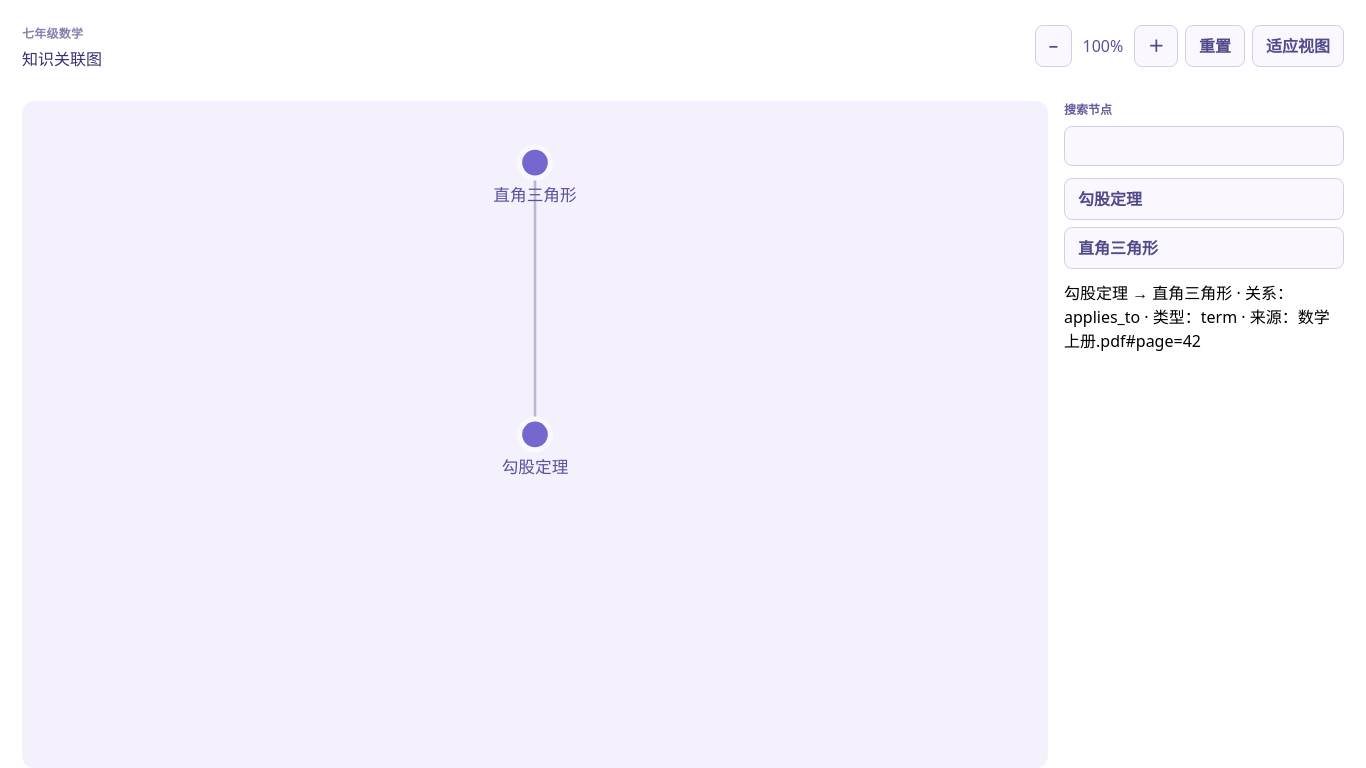
Test: KnowledgeGraphPanel › focuses a node, shows details, and fit view clears focus and resets the transform
The image size is (1366, 768).
Step 1. Click the button "直角三角形" → (1118, 248), box [1064,227,1344,269]
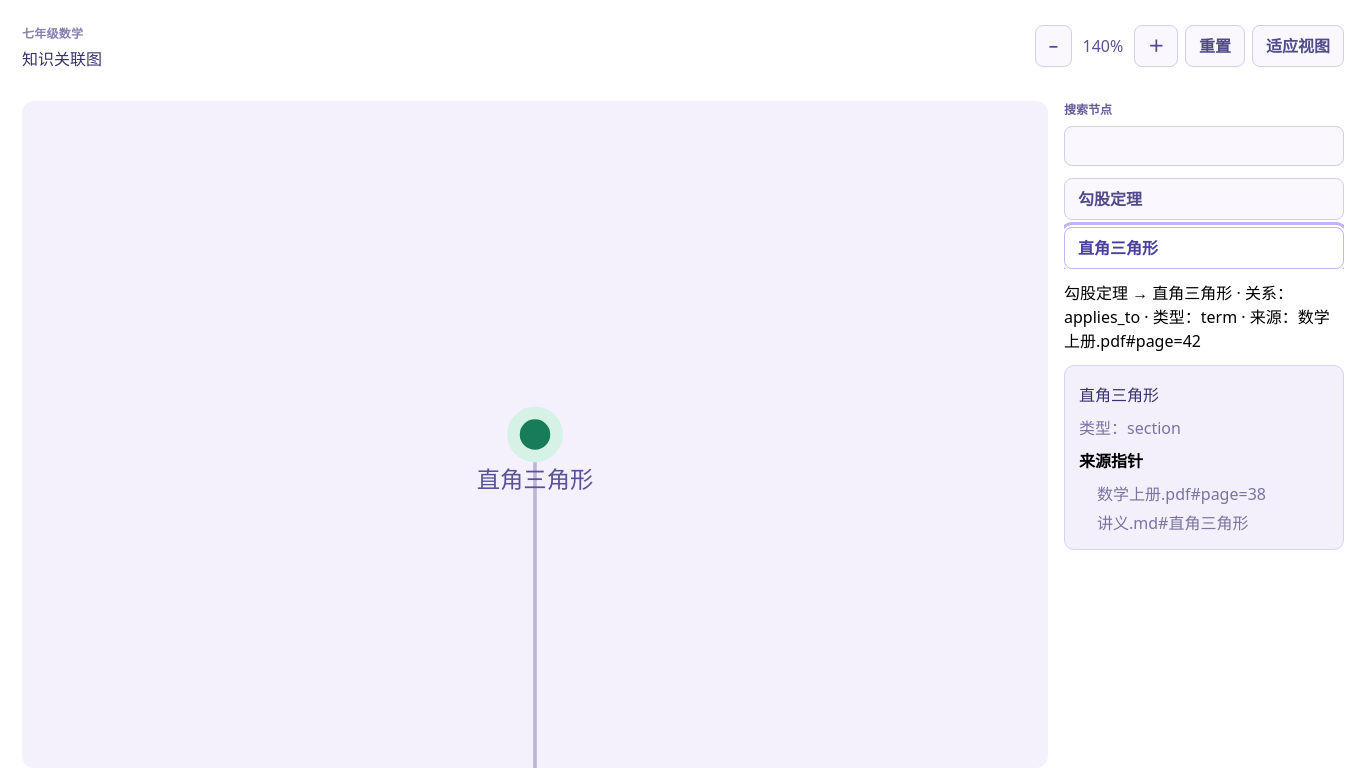
Check: the element named "节点详情" shows "直角三角形", box [1079,384,1159,406]
Check: the element named "节点详情" shows "section", box [1127,417,1181,439]
Check: the element named "节点详情" shows "数学上册.pdf#page=38", box [1097,483,1266,505]
Step 2. Click the button "适应视图" → (1298, 46), box [1252,24,1344,66]
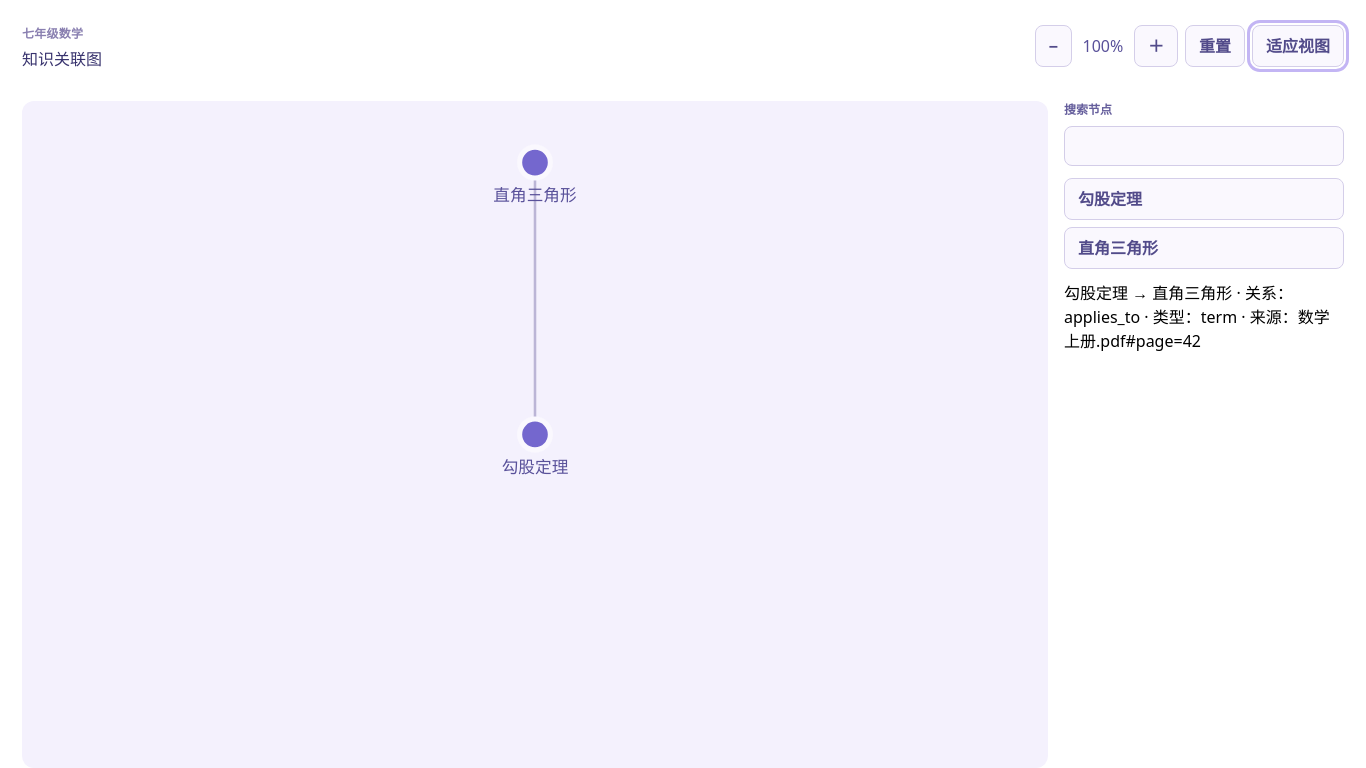
Check: the element "节点详情" is gone
